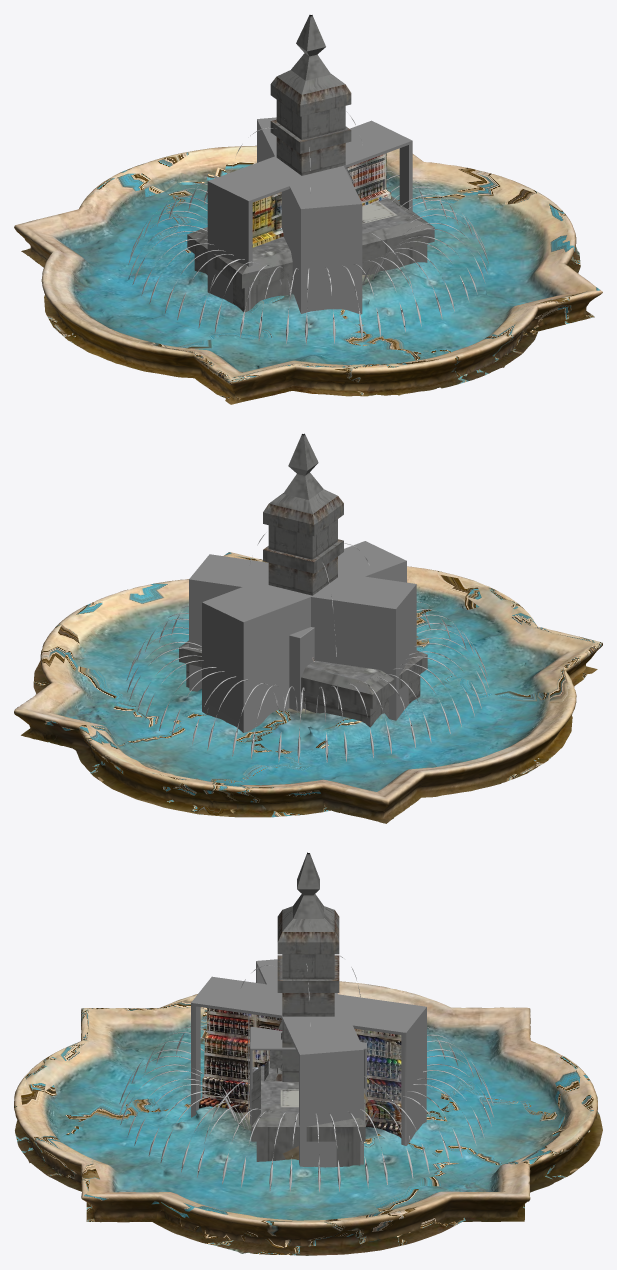
The picture shows the model from 3 angles, top to bottom: view 1: azimuth 30°, elevation 25°; view 2: azimuth 150°, elevation 25°; view 3: azimuth 270°, elevation 25°; orthographic projection. The views are drawn at different scales.
Parts seen in each view (by area): view 1: zfountain_0, vfridge_1, vfridge_0, grave_3, grave_1, grave_2, grave_4; view 2: zfountain_0, vfridge_0, vfridge_1, grave_3, grave_1, grave_4, grave_2, vfridge_2, grave_6; view 3: zfountain_0, vfridge_0, vfridge_1, grave_3, grave_4, grave_2, grave_1, vfridge_2.
Boxes of the visible parts, x1,y1,x2,y2 form: zfountain_0: (14,111,602,404); vfridge_1: (207,120,412,310); vfridge_0: (257,117,362,314); grave_3: (271,15,351,173); grave_1: (187,197,434,311); grave_2: (187,196,427,312); grave_4: (270,76,350,175); zfountain_0: (14,532,602,823); vfridge_0: (202,541,406,732); vfridge_1: (189,554,416,720); grave_3: (263,433,343,595); grave_1: (179,640,427,727); grave_4: (263,496,343,586); grave_2: (179,642,427,708); vfridge_2: (289,627,314,711); grave_6: (268,562,312,595); zfountain_0: (14,955,602,1255); vfridge_0: (191,976,426,1145); vfridge_1: (256,959,363,1167); grave_3: (277,852,339,1064); grave_4: (277,910,339,1081); grave_2: (251,1066,365,1166); grave_1: (251,1066,365,1126); vfridge_2: (250,1026,366,1124).
Bounding box in the file's own units: 8.04 × 4.24 × 8.03.
34 materials, 28 textured.
